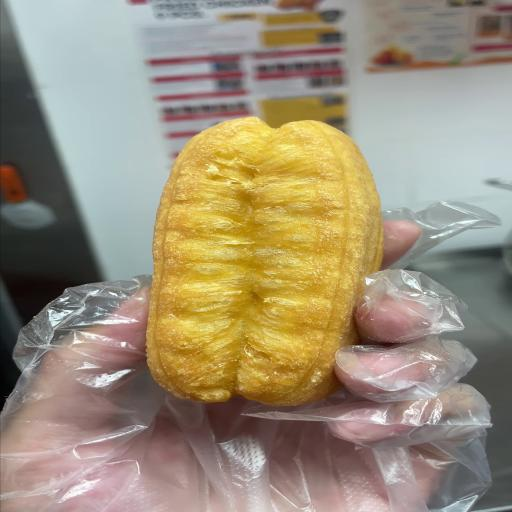brand_golden_good: (146, 118, 383, 406)
